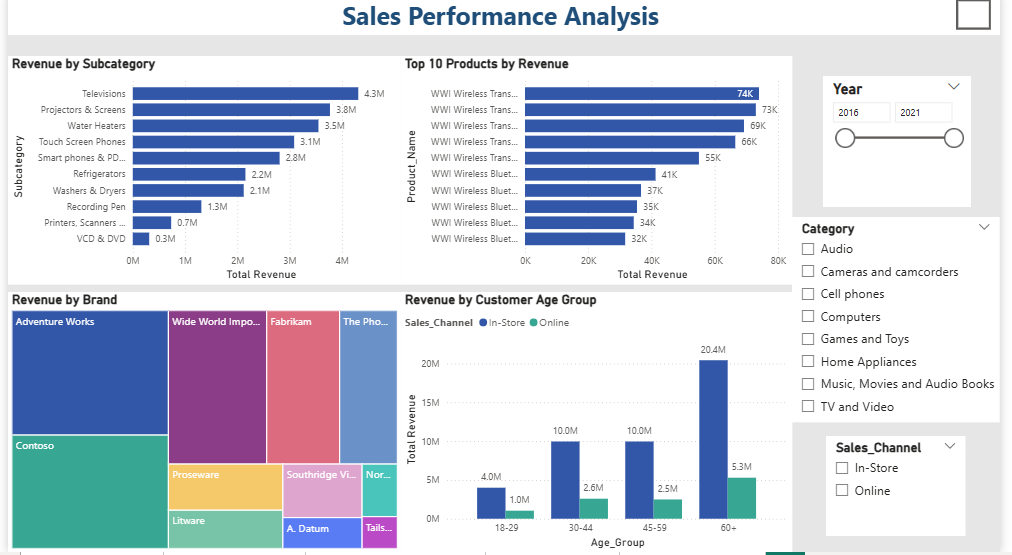

Layout of this report page (visuals, bound fields, positions):
{"tool":"powerbi","page":{"name":"Sales Performance","canvas":[1280,720],"ordinal":1},"visuals":[{"type":"textbox","box":[0,0,1280,52.5],"z":0},{"type":"clusteredBarChart","title":"Revenue by Subcategory","fields":{"Y":["_Measures.Total Revenue"],"Category":["Products.Subcategory"]},"box":[0,79.4,507.4,294.8],"z":1000},{"type":"clusteredBarChart","title":"Top 10 Products by Revenue","fields":{"Category":["Products.Product_Name"],"Y":["_Measures.Total Revenue"]},"box":[507.4,79.4,504.6,294.8],"z":2000},{"type":"clusteredColumnChart","title":"Revenue by Customer Age Group","fields":{"Y":["_Measures.Total Revenue"],"Series":["Sales.Sales_Channel"],"Category":["Customers.Age_Group"]},"box":[507.4,384.1,504.6,335.9],"z":3000},{"type":"slicer","fields":{"Values":["Date Table.Year"]},"box":[1051.7,106.3,189.9,168.7],"z":4000},{"type":"slicer","fields":{"Values":["Products.Category"]},"box":[1012,287.7,267.9,265],"z":5000},{"type":"slicer","fields":{"Values":["Sales.Sales_Channel"]},"box":[1055.9,569.8,180,129],"z":6000},{"type":"treemap","title":"Revenue by Brand","fields":{"Group":["Products.Brand"],"Values":["_Measures.Total Revenue"]},"box":[0,384.1,507.4,335.9],"z":7000},{"type":"actionButton","box":[1223.1,7.1,45.4,39.7],"z":7001}]}

Visuals, with their boxes in screenshot pixels (x1, y1, x2, y2), scaled from the page's 1280x720 canvas onto the 1012x555 screenshot:
textbox: box(0, 0, 1011, 40)
"Revenue by Subcategory" clusteredBarChart: box(0, 61, 401, 288)
"Top 10 Products by Revenue" clusteredBarChart: box(401, 61, 800, 288)
"Revenue by Customer Age Group" clusteredColumnChart: box(401, 296, 800, 554)
slicer - Date Table.Year: box(832, 82, 982, 212)
slicer - Products.Category: box(800, 222, 1011, 426)
slicer - Sales.Sales_Channel: box(835, 439, 977, 539)
"Revenue by Brand" treemap: box(0, 296, 401, 554)
actionButton: box(967, 5, 1003, 36)
